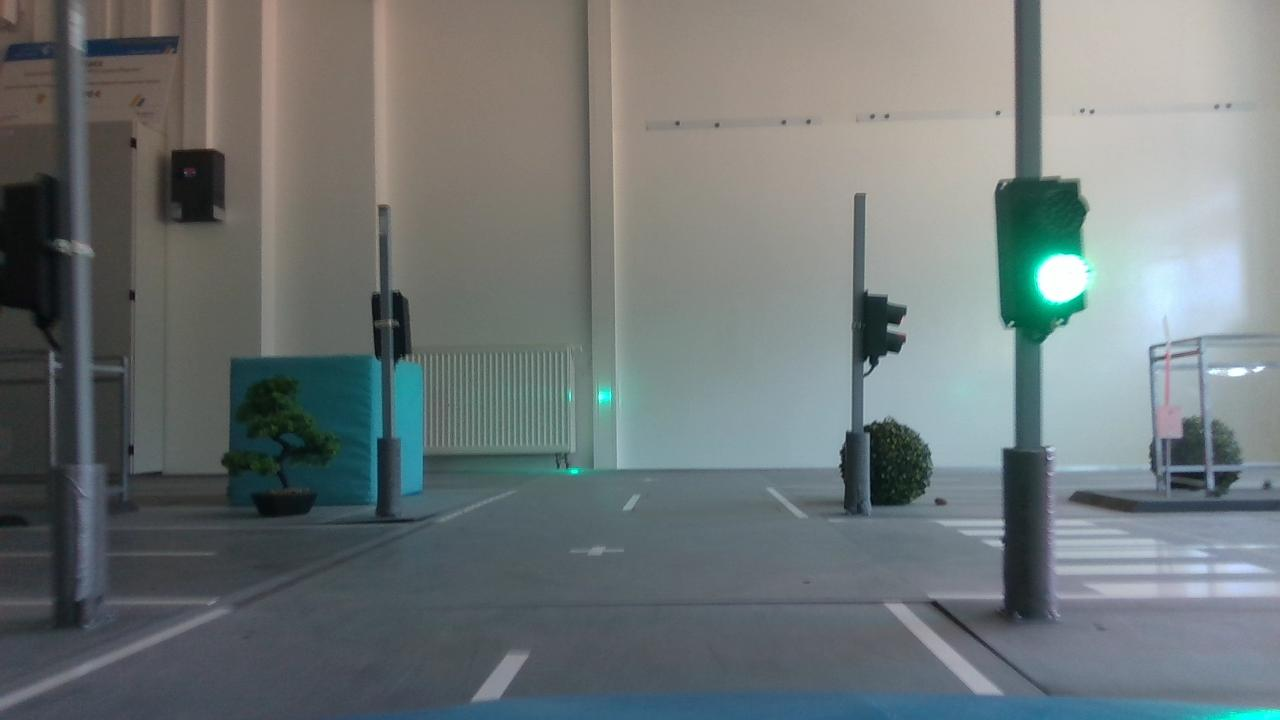traffic_light_green: (986, 161, 1105, 346)
